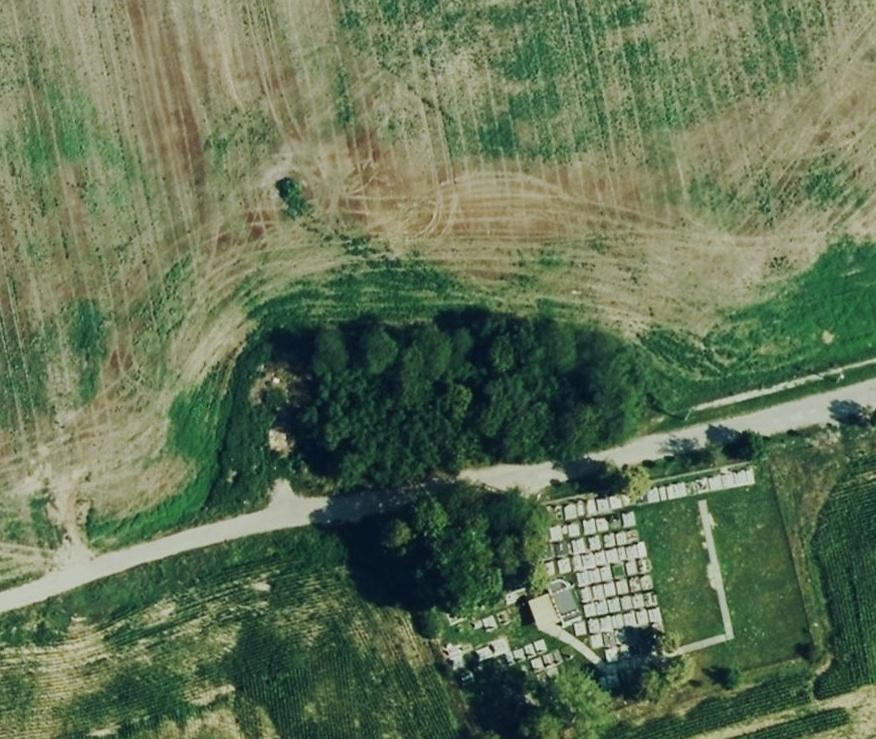field: (0, 2, 876, 581), (0, 529, 460, 737)
forest: (236, 308, 645, 488), (339, 482, 548, 613)
